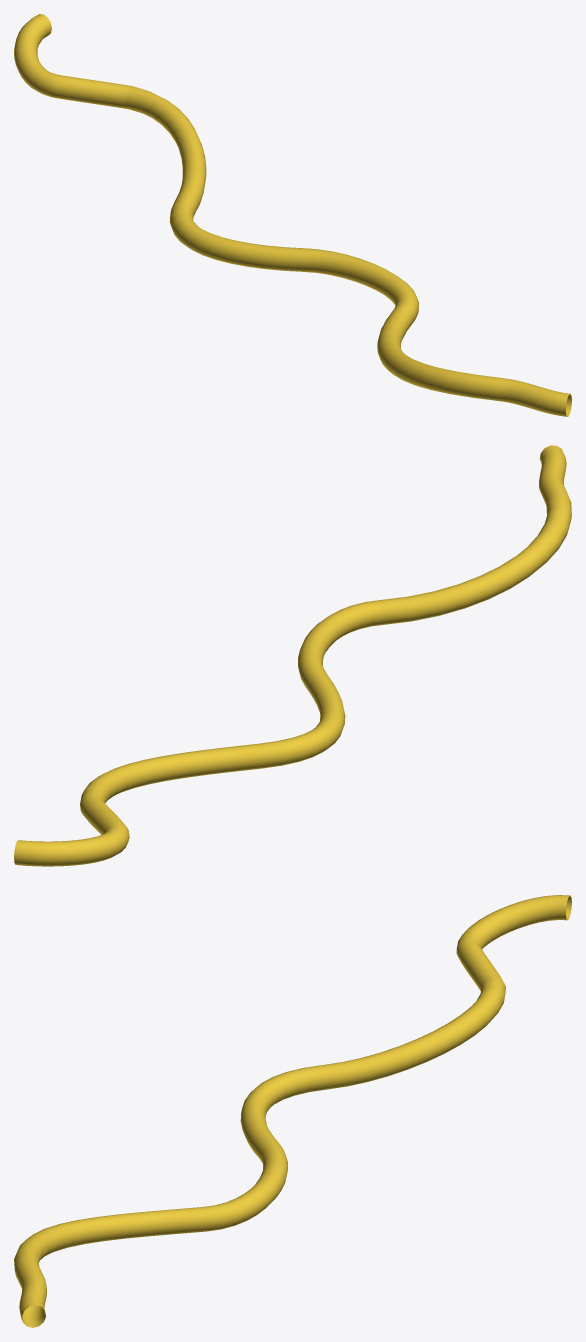
Rendered from mustard.fbx.
The picture shows the model from 3 angles, top to bottom: view 1: azimuth 30°, elevation 25°; view 2: azimuth 150°, elevation 25°; view 3: azimuth 330°, elevation 25°; orthographic projection. The views are drawn at different scales.
Visible parts, largest first — view 1: Mustard; view 2: Mustard; view 3: Mustard.
Boxes of the visible parts, x1,y1,x2,y2 form: Mustard: (14, 14, 571, 416); Mustard: (14, 445, 571, 866); Mustard: (14, 895, 571, 1327).
Bounding box in the file's own units: 57.09 × 26.52 × 443.
